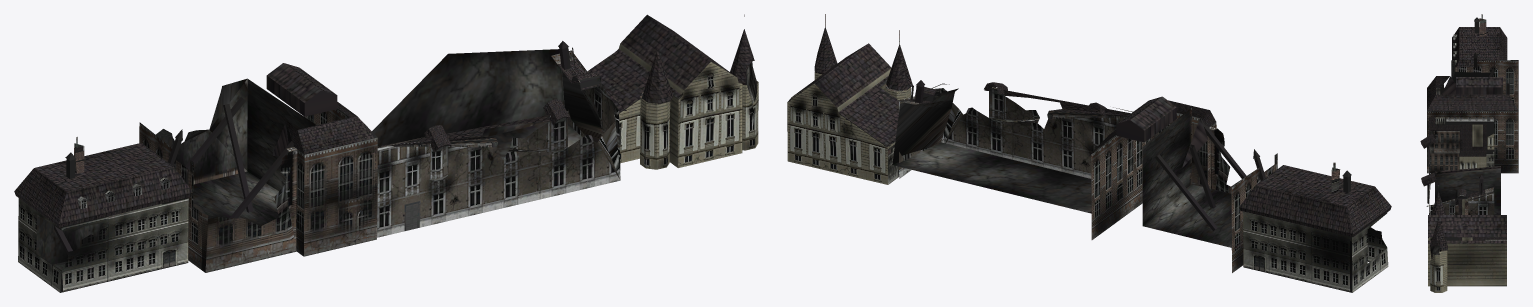
File: Ruin_CityBlock_01.fbx
3 renders of one model, left to right at view 1: azimuth 30°, elevation 25°; view 2: azimuth 150°, elevation 25°; view 3: azimuth 270°, elevation 25°, orthographic. The views are drawn at different scales.
Visible parts, largest first — view 1: Ruin_CityBlock_01_Part0_destroyed_cityblock01a; view 2: Ruin_CityBlock_01_Part0_destroyed_cityblock01a; view 3: Ruin_CityBlock_01_Part0_destroyed_cityblock01a.
Part boxes in pixels (<box>): Ruin_CityBlock_01_Part0_destroyed_cityblock01a: <box>14,14,758,292</box>; Ruin_CityBlock_01_Part0_destroyed_cityblock01a: <box>787,14,1391,292</box>; Ruin_CityBlock_01_Part0_destroyed_cityblock01a: <box>1420,14,1518,292</box>.
Bounding box in the file's own units: 4.67 × 0.9319 × 0.9322.
